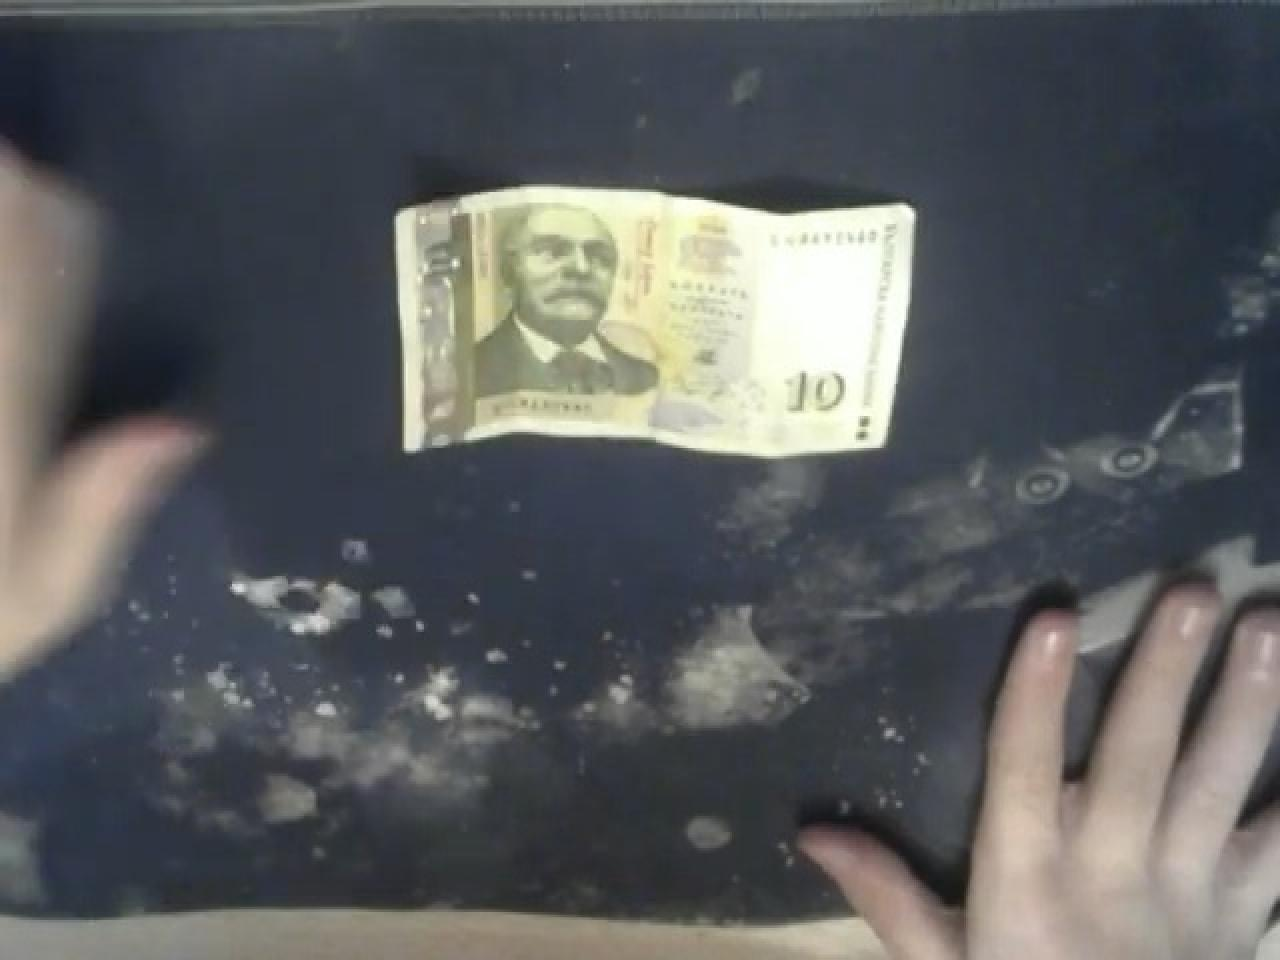10leva: (773, 347, 863, 434)
